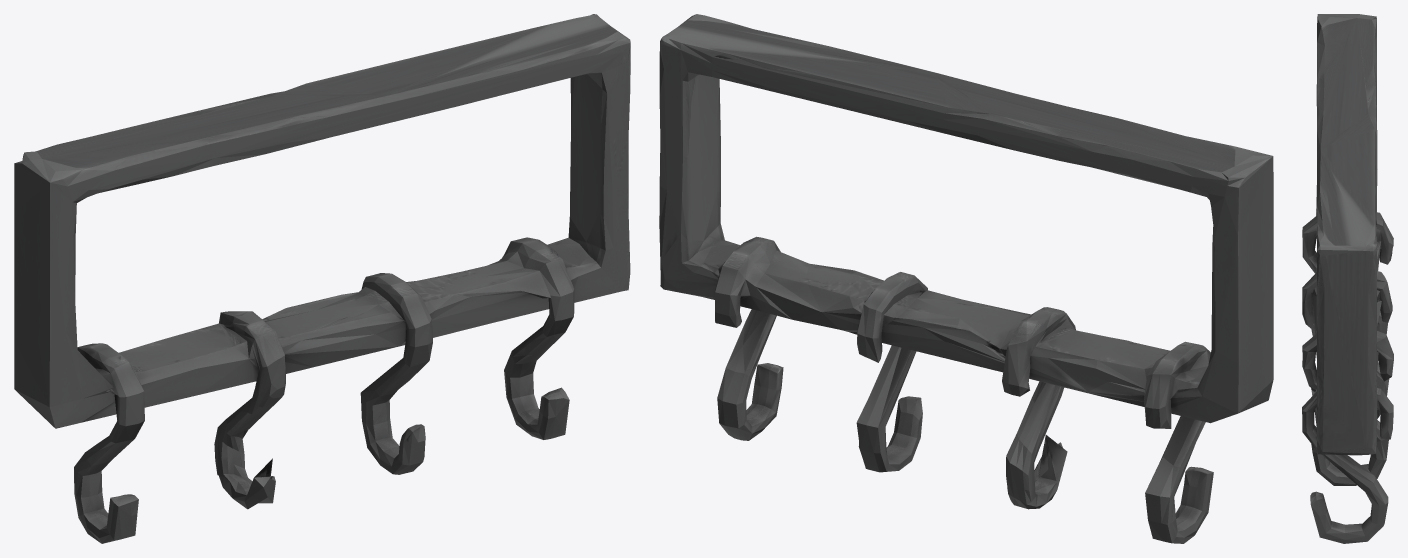
The model's file is PanRack.fbx.
3 views of the same model, side by side, from view 1: azimuth 30°, elevation 25°; view 2: azimuth 150°, elevation 25°; view 3: azimuth 270°, elevation 25° (orthographic). The views are drawn at different scales.
Parts seen in each view (by area): view 1: Mesh_0; view 2: Mesh_0; view 3: Mesh_0.
Boxes of the visible parts, left/top/right/bottom form: Mesh_0: left=14, top=14, right=630, bottom=543; Mesh_0: left=659, top=14, right=1273, bottom=543; Mesh_0: left=1302, top=14, right=1393, bottom=543.
Bounding box in the file's own units: 2.35 × 1.5 × 0.3865.
Materials: 1 (1 with a texture image).
